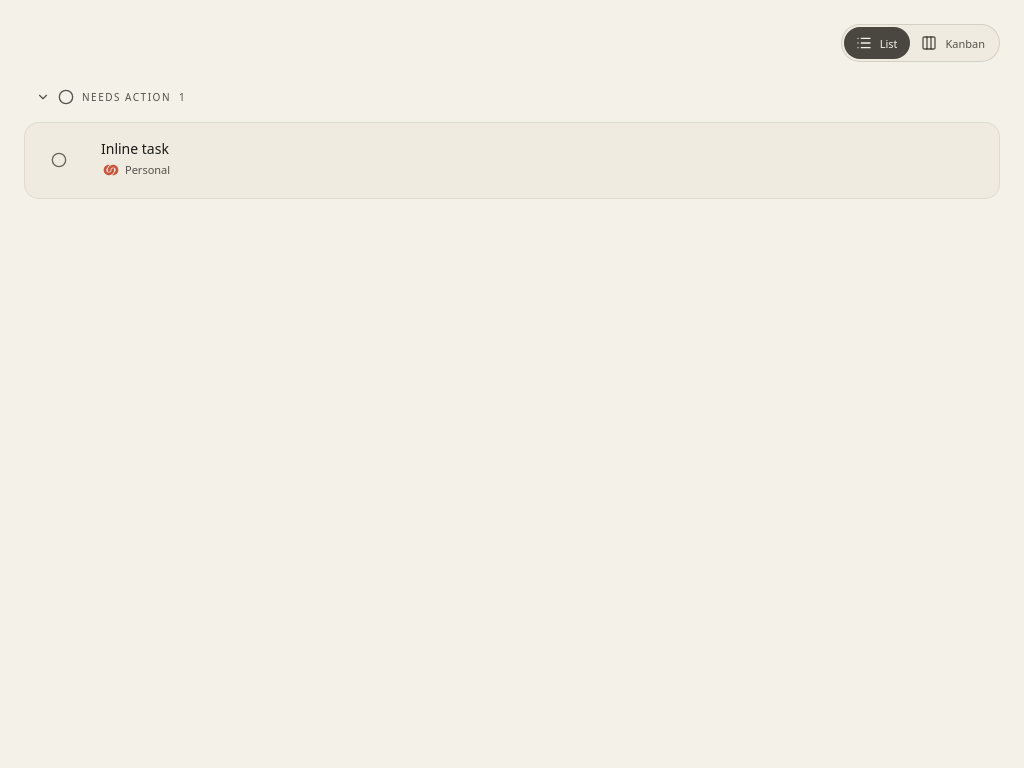
Scenario: updates status inline without dropping recurrence
Click the dropdown named "Status of Inline task" at (59, 160), box [41,142,77,178]
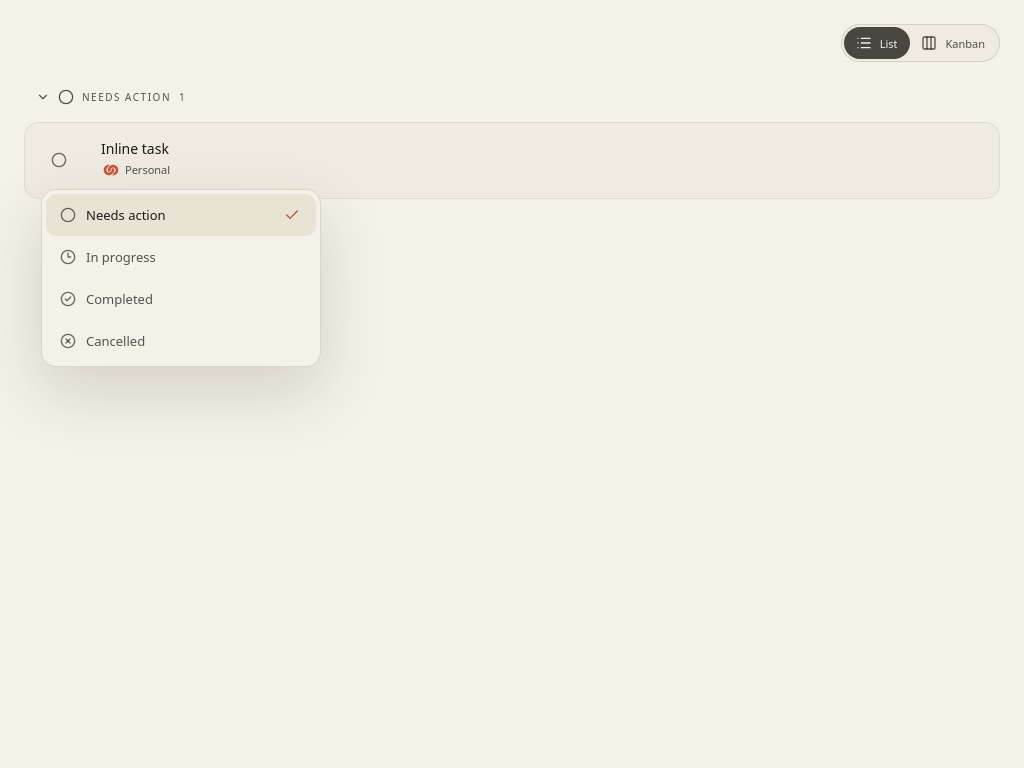
Click the option "Completed" at (119, 299), box [46,278,316,320]
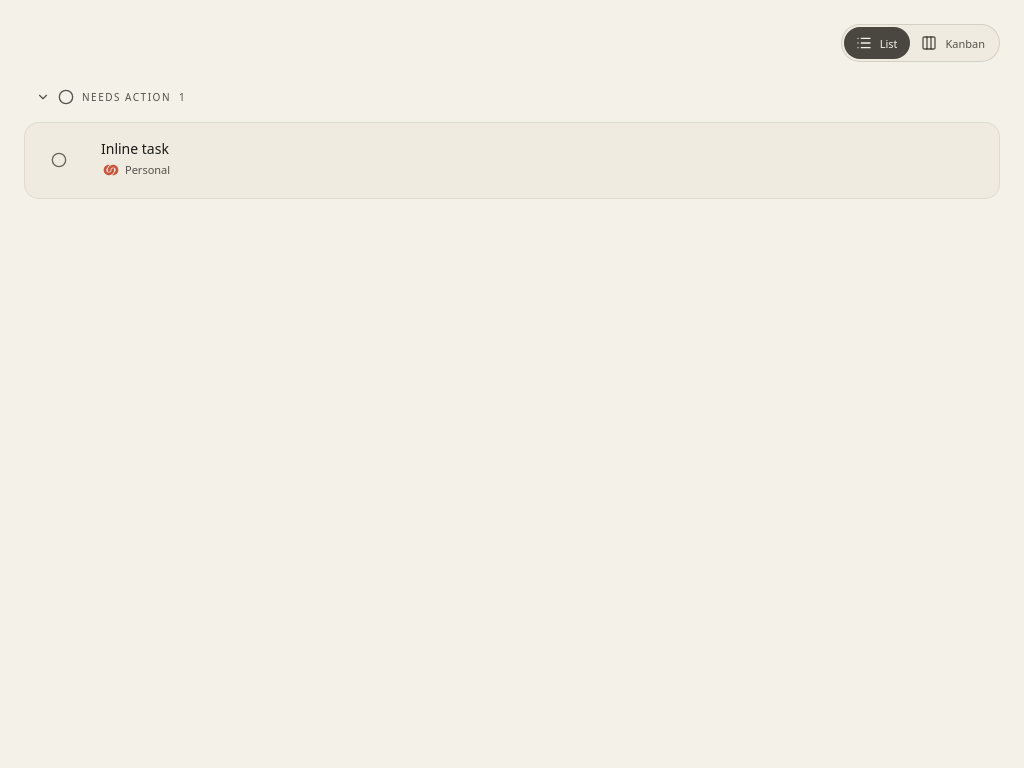
Check: the dialog is gone
